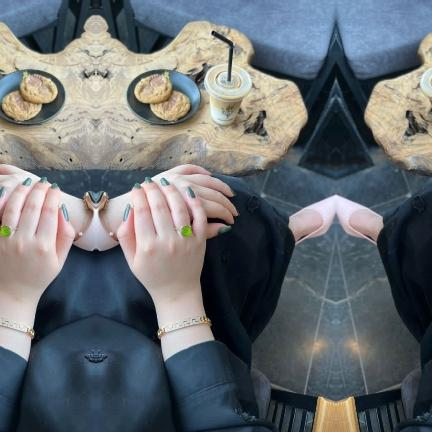Nail: (217, 225, 230, 235), (122, 203, 129, 221), (61, 203, 68, 221), (185, 186, 195, 198), (159, 177, 169, 186), (21, 177, 31, 186), (0, 186, 5, 197), (229, 187, 235, 195), (144, 176, 150, 183), (133, 182, 140, 188), (40, 176, 46, 183), (50, 182, 57, 188), (236, 209, 240, 215), (430, 212, 432, 215)
